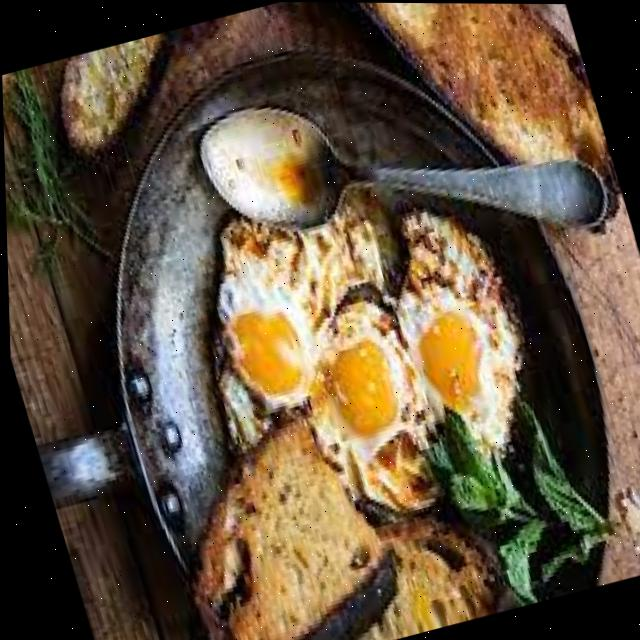Bread: (188, 416, 377, 640), (359, 2, 605, 167), (354, 545, 471, 640)
Egg: (394, 210, 517, 450), (305, 302, 434, 509), (214, 217, 345, 409)
